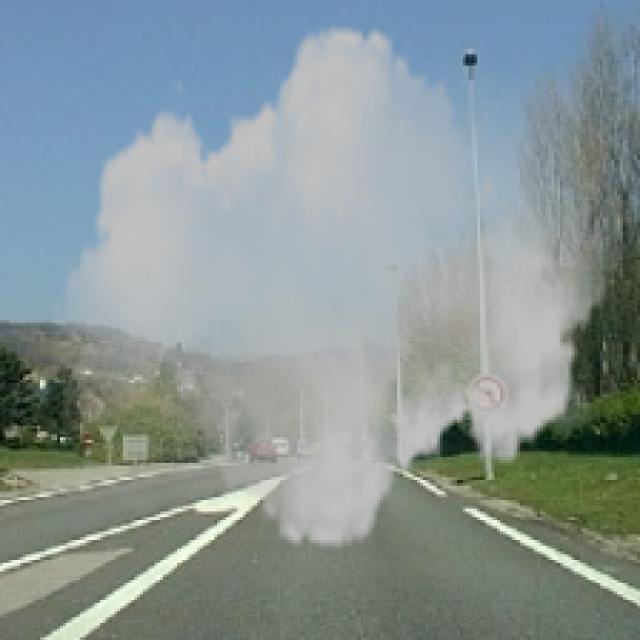Smoke: (51, 2, 620, 572)
